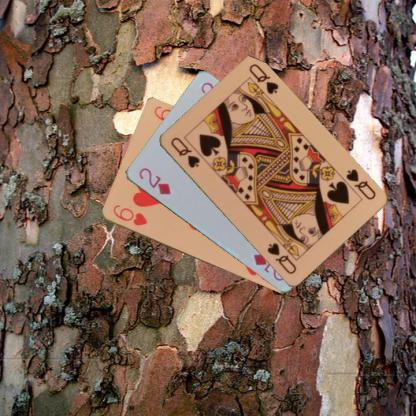2d: (136, 164, 172, 197)
6h: (110, 202, 148, 228)
Qs: (342, 166, 376, 201), (168, 134, 201, 169)
